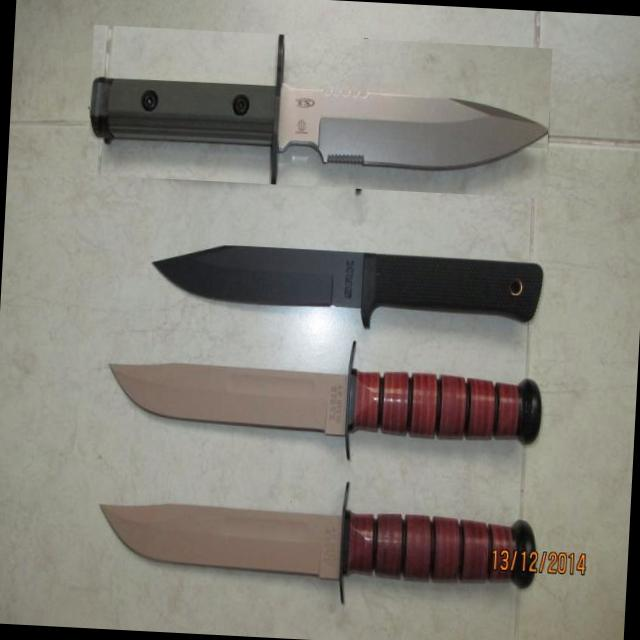Knife: (90, 35, 548, 184), (102, 485, 584, 601), (110, 342, 541, 456), (154, 245, 542, 326)
